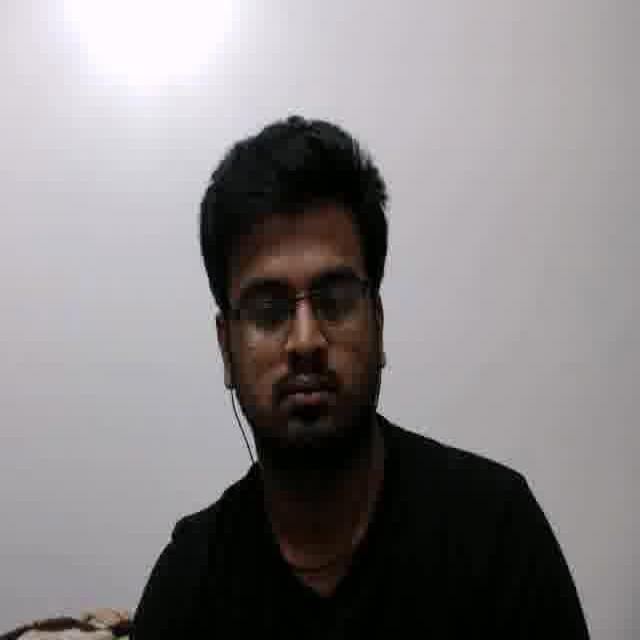Boredom: (229, 224, 369, 447)
